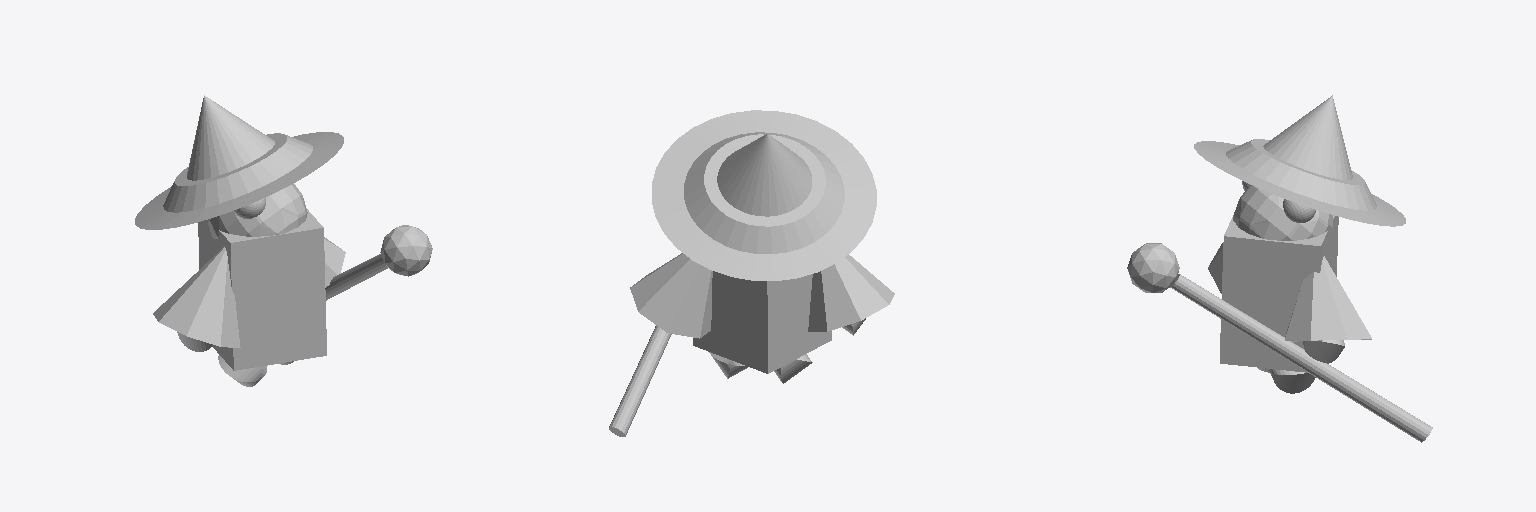
Rendered from f3f1blendercharactermodel.obj.
3 renders of one model, left to right at view 1: azimuth 30°, elevation 25°; view 2: azimuth 150°, elevation 25°; view 3: azimuth 270°, elevation 25°, orthographic.
Parts seen in each view (by area): view 1: Cone, Cylinder_Cylinder.003, Mball; view 2: Cone, Cylinder_Cylinder.003; view 3: Cone, Cylinder_Cylinder.003, Mball.
Part boxes in pixels (left/top/right/bottom): Cone: left=135, top=95, right=432, bottom=386; Cylinder_Cylinder.003: left=198, top=208, right=326, bottom=370; Mball: left=208, top=184, right=307, bottom=238; Cone: left=609, top=110, right=894, bottom=436; Cylinder_Cylinder.003: left=693, top=271, right=831, bottom=373; Cone: left=1127, top=95, right=1432, bottom=442; Cylinder_Cylinder.003: left=1220, top=215, right=1338, bottom=372; Mball: left=1233, top=185, right=1332, bottom=240.
Size of the model in its own units: 2.95 by 3.81 by 3.56.